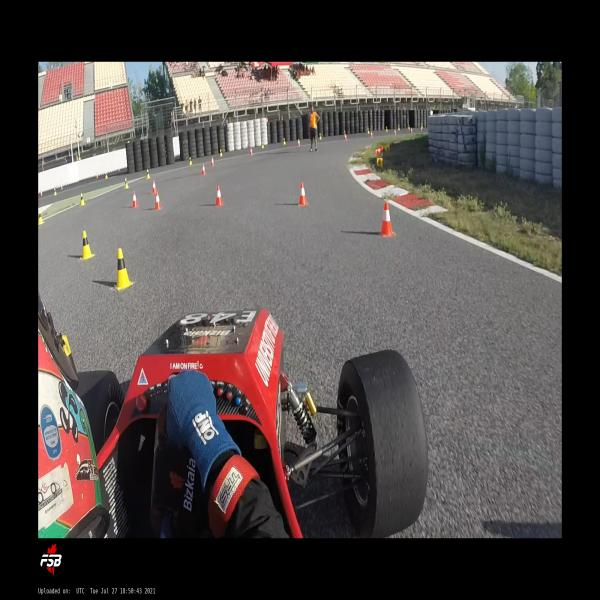orange_cone: (379, 202, 395, 238), (297, 182, 307, 207), (215, 186, 224, 206), (154, 191, 162, 210), (132, 191, 139, 207), (151, 180, 156, 194), (202, 163, 206, 176), (210, 157, 215, 167), (378, 144, 383, 152), (250, 146, 254, 155), (297, 138, 301, 147), (375, 149, 380, 156), (344, 133, 347, 141), (370, 130, 373, 138), (60, 183, 63, 190), (96, 172, 99, 179), (410, 128, 414, 133), (40, 189, 42, 196), (118, 165, 120, 172), (394, 128, 396, 135)
yellow_cone: (114, 248, 133, 292), (80, 230, 96, 260), (38, 210, 45, 225), (79, 193, 86, 206), (376, 158, 383, 168), (124, 178, 129, 190), (146, 169, 150, 179), (219, 149, 223, 157), (78, 153, 82, 161), (189, 156, 192, 166), (104, 172, 108, 179), (54, 187, 57, 196), (261, 141, 264, 149), (283, 137, 286, 145), (319, 132, 322, 140), (367, 128, 370, 134), (386, 126, 388, 132), (398, 124, 400, 130), (408, 124, 410, 130)
